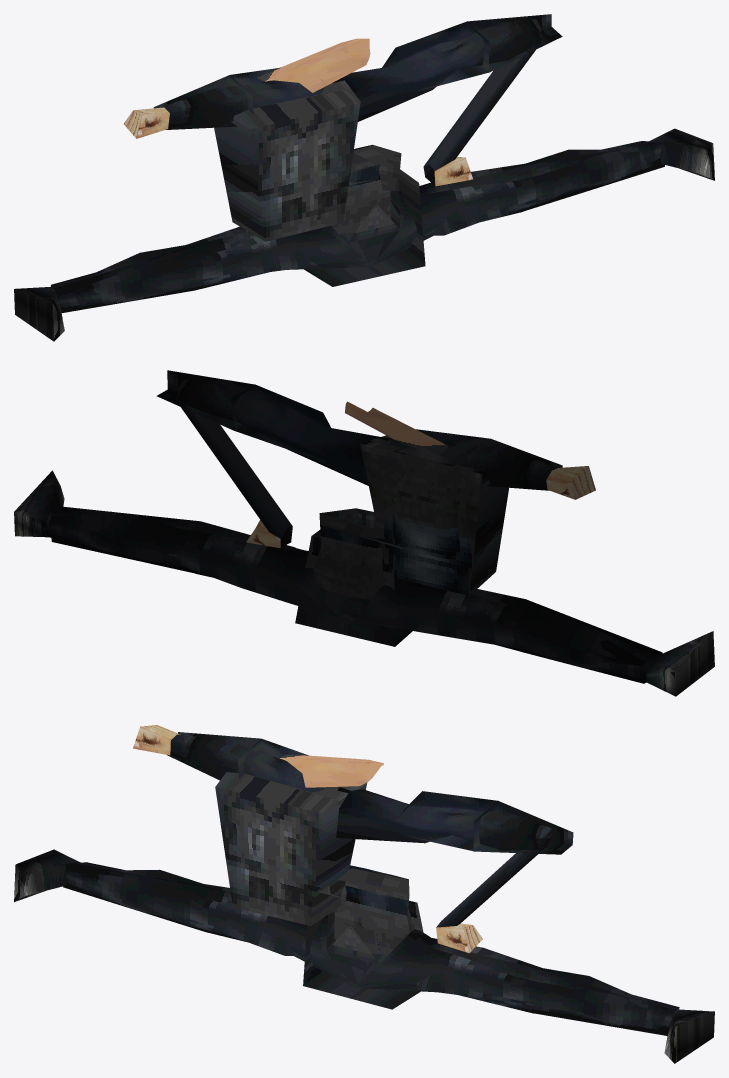
The model's file is CboilerbondZ.obj.
3 views of the same model, one above another, from view 1: azimuth 30°, elevation 25°; view 2: azimuth 150°, elevation 25°; view 3: azimuth 330°, elevation 25° (orthographic).
Size of the model in its own units: 2255 by 717 by 261.
Materials: 13 (13 with a texture image).
